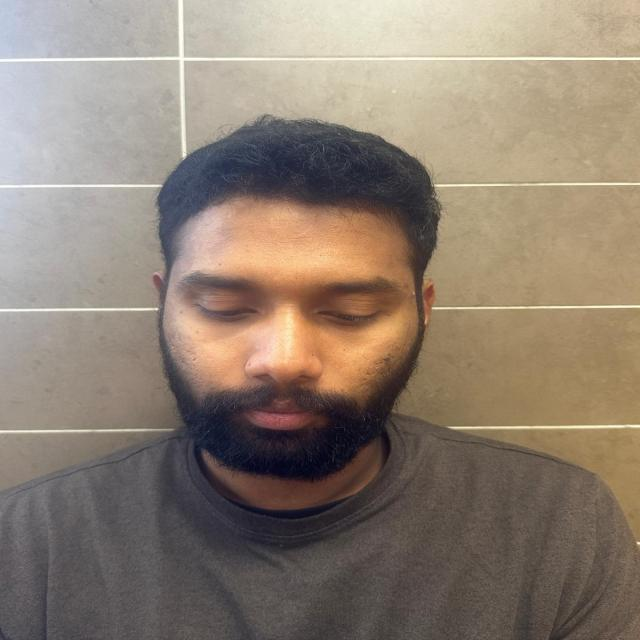nocap: (132, 101, 498, 265)
